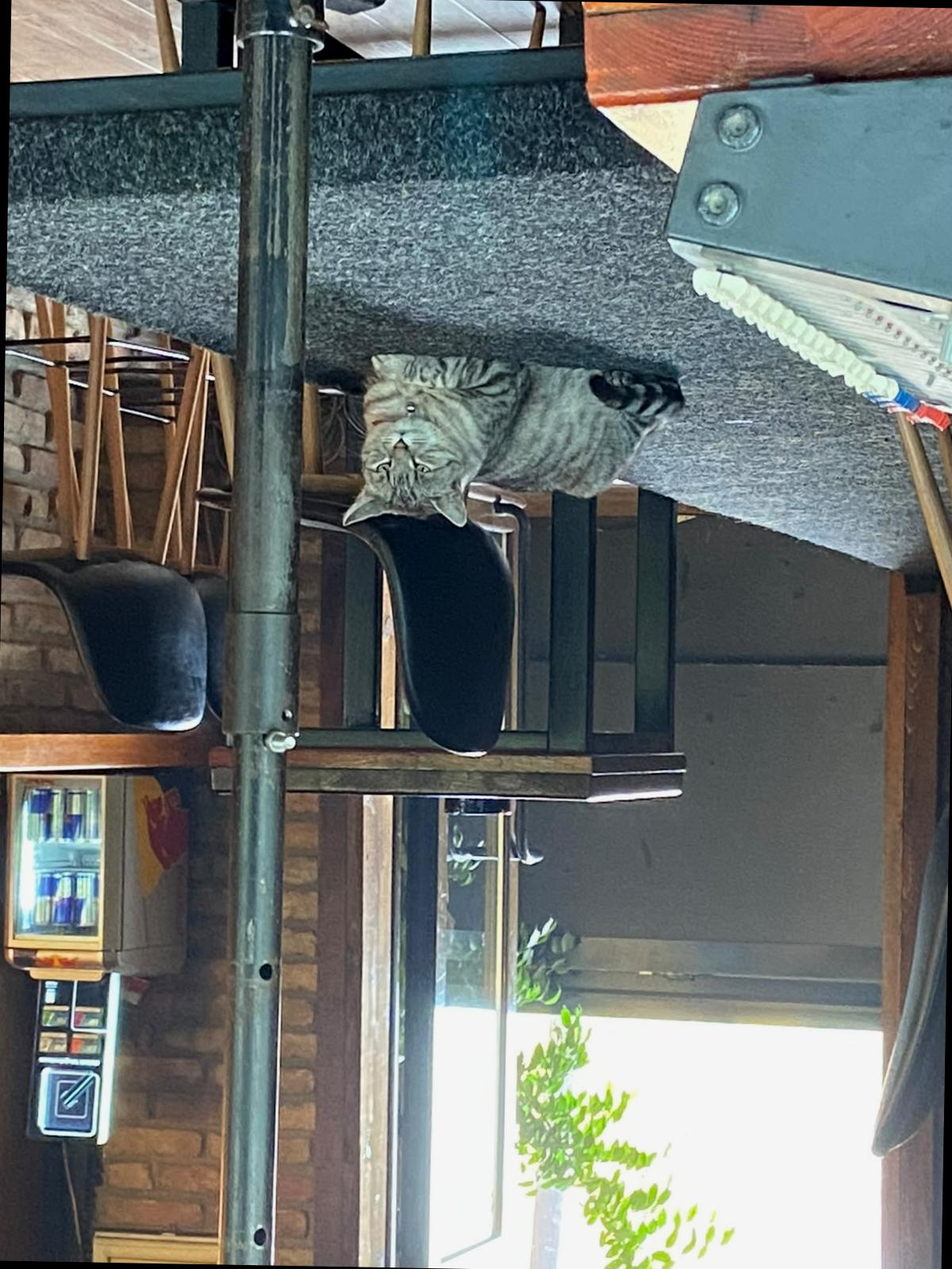macka: (341, 352, 684, 534)
